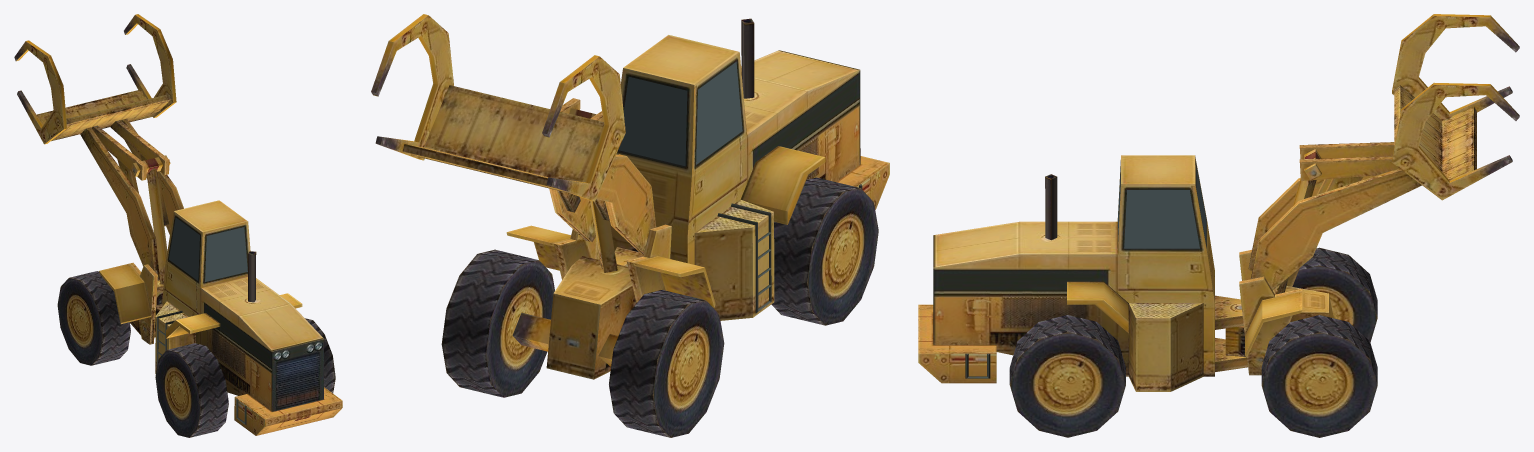
The model's file is p54_38_loader_grapple_yellow.glb.
The picture shows the model from 3 angles, left to right: view 1: azimuth 30°, elevation 25°; view 2: azimuth 150°, elevation 25°; view 3: azimuth 270°, elevation 25°; orthographic projection. The views are drawn at different scales.
Parts seen in each view (by area): view 1: Body, Glass; view 2: Body, Glass; view 3: Body, Glass.
Boxes of the visible parts, x1,y1,x2,y2 form: Body: [14, 14, 342, 437]; Glass: [169, 217, 247, 281]; Body: [371, 14, 889, 437]; Glass: [618, 62, 742, 166]; Body: [918, 14, 1519, 437]; Glass: [1118, 165, 1206, 248].
Size of the model in its own units: 2.54 by 4.84 by 7.6.
2 materials, 2 textured.
